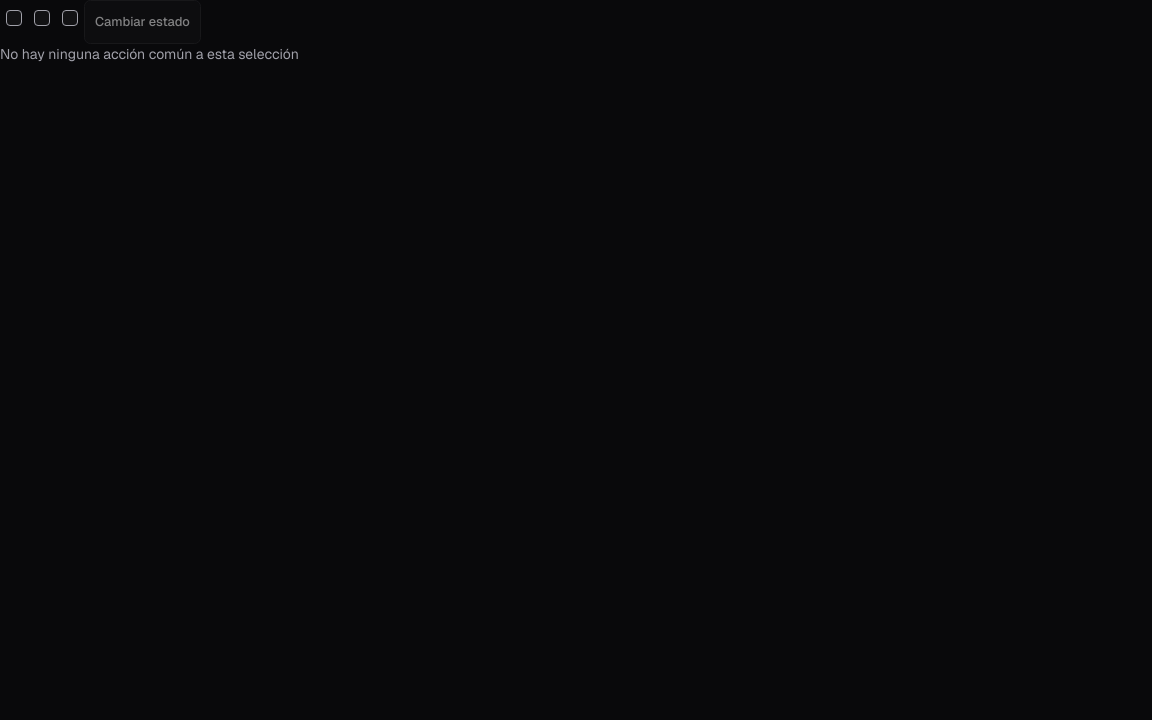
Test case: OrderBulkStatusActions — the run ends by emptying the bar, so it has to say what it did › counts the orders it changed, in the plural
This screenshot has width=1152, height=720.
Click the checkbox named "Seleccionar orden o1": [14, 18] box [6,10,22,26]
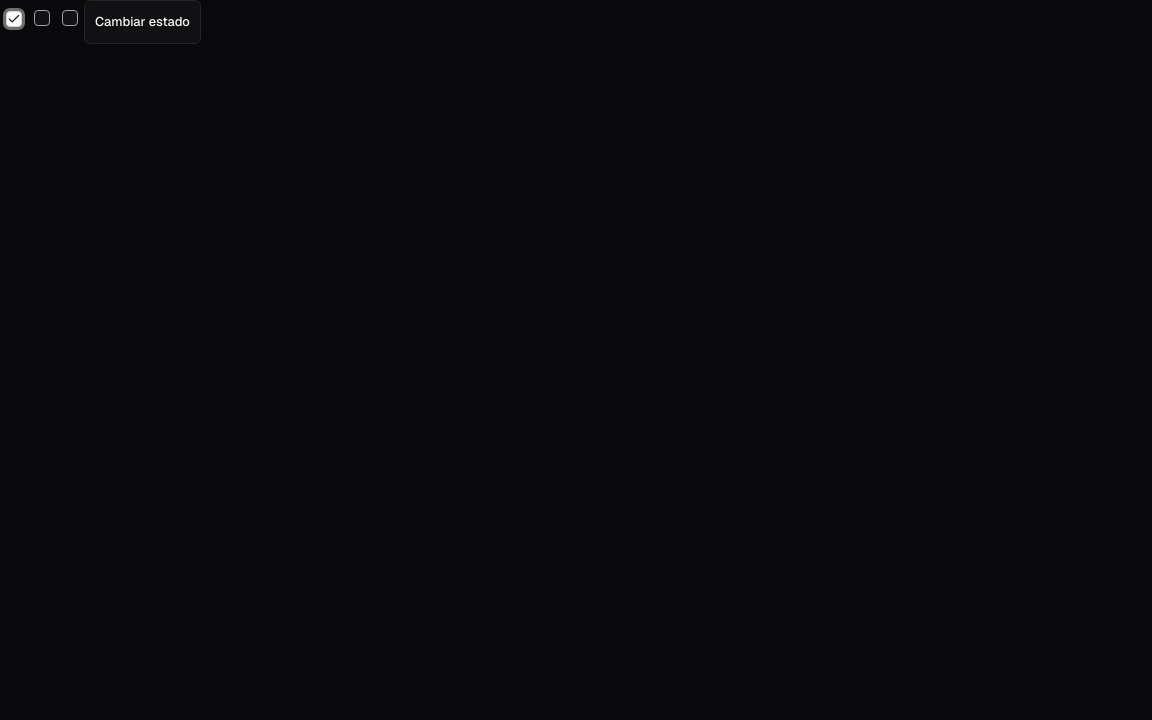
Click the checkbox named "Seleccionar orden o2": [42, 18] box [34,10,50,26]
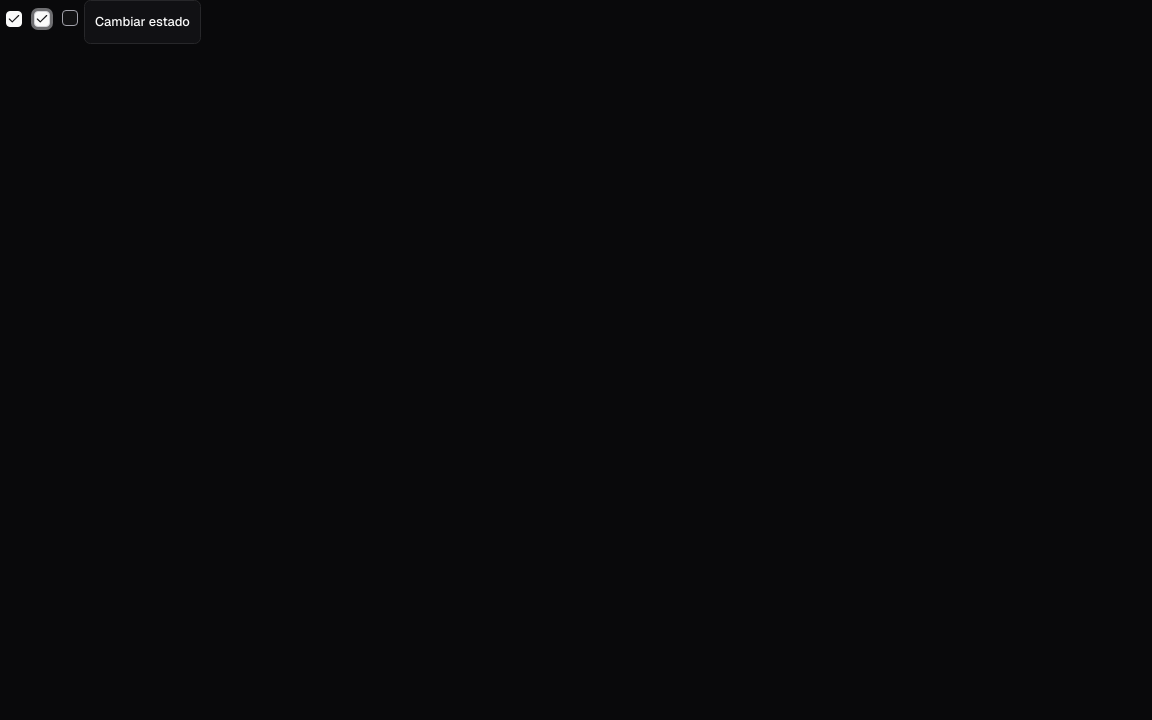
Click the button "Cambiar estado": [142, 22] box [84,0,201,44]
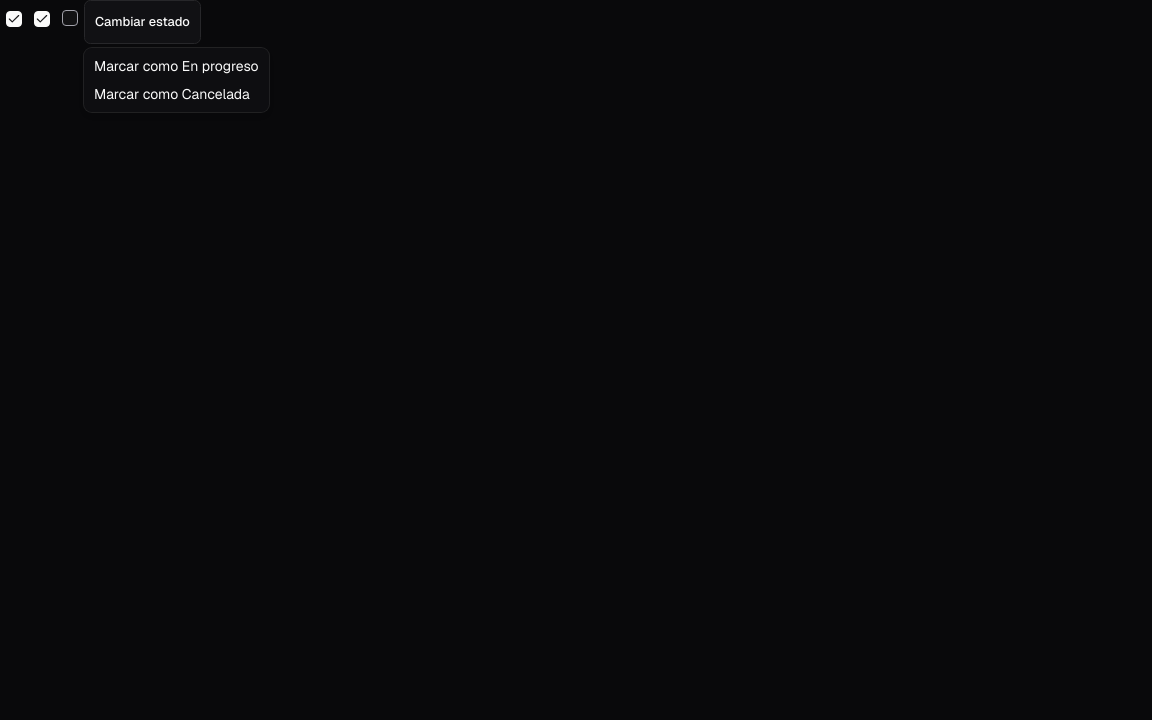
Expected: the menu is shown, [84,48,269,112]
Click the menu item "Marcar como En progreso": [176, 66] box [88,52,265,80]
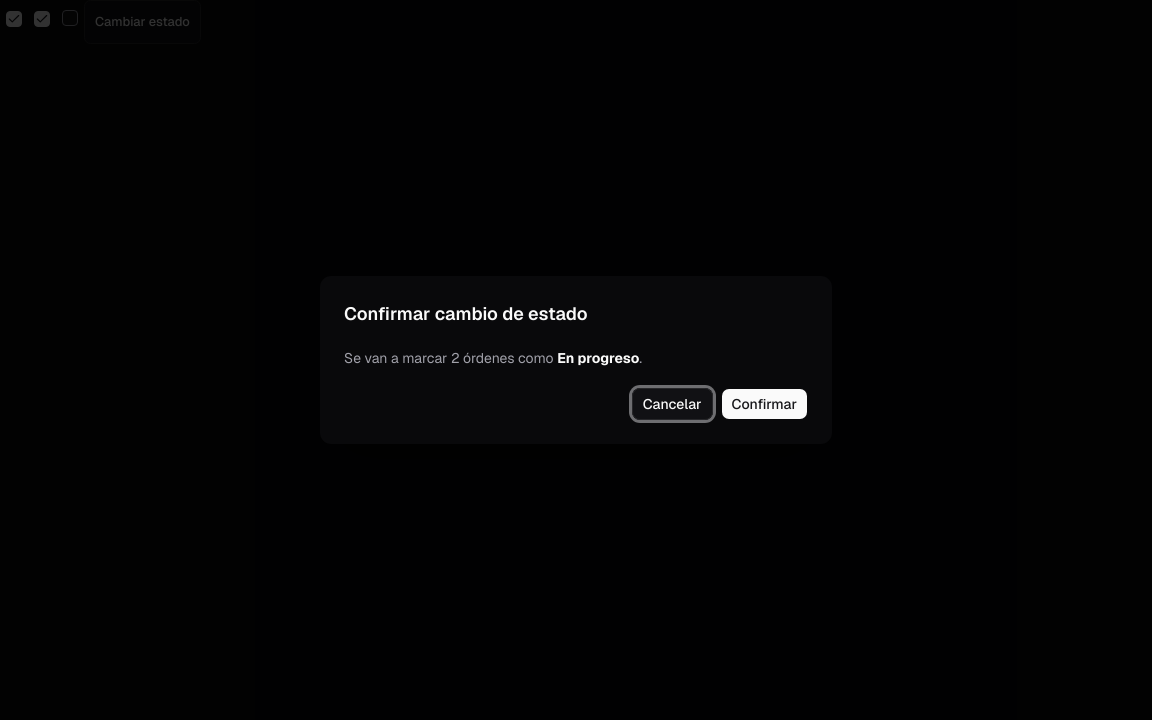
Click the button "Confirmar": [764, 404] box [721,388,808,420]
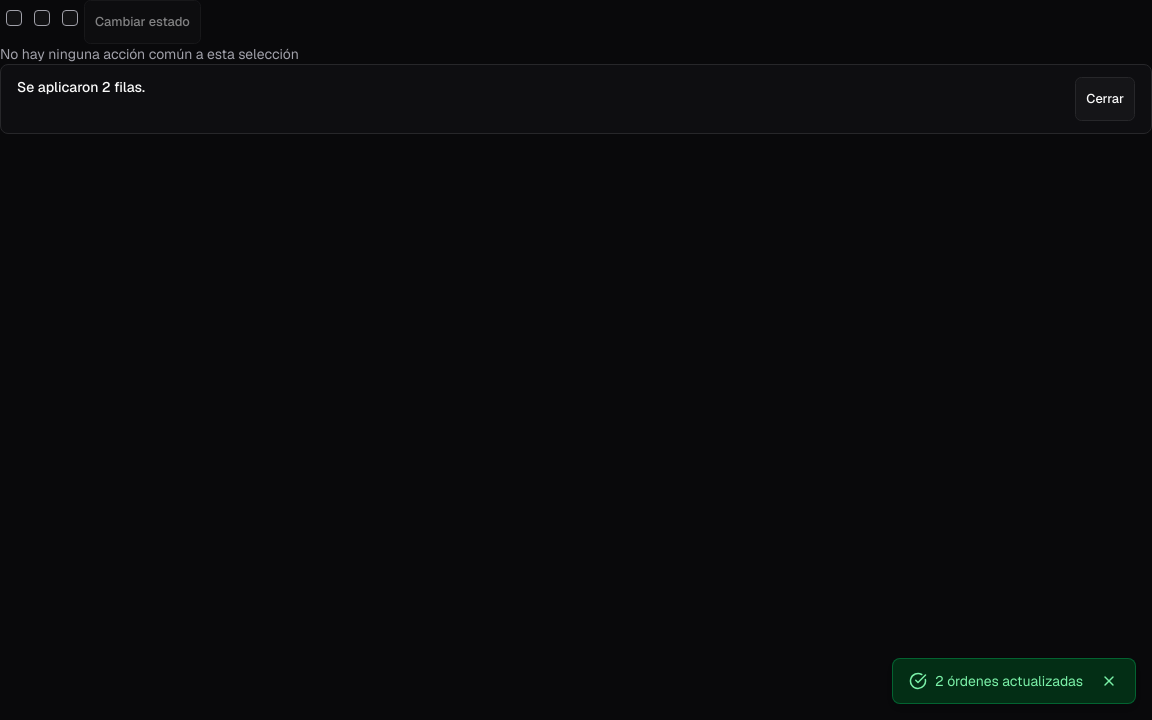
Expected: the text "2 órdenes actualizadas" is shown, [935,671,1083,691]
